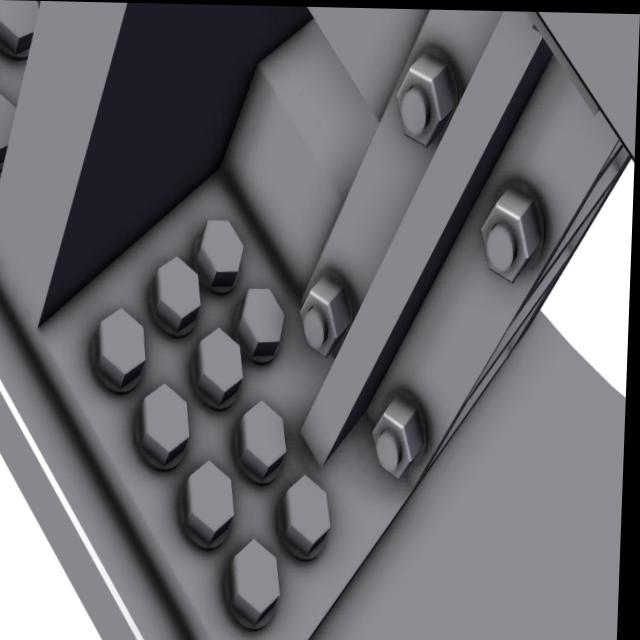Regular bolt: (481, 182, 544, 283), (397, 49, 456, 147), (231, 538, 289, 629), (186, 460, 242, 547), (95, 307, 149, 391), (302, 277, 356, 360), (142, 383, 194, 468), (197, 327, 249, 408), (375, 400, 429, 477), (286, 473, 338, 552), (242, 402, 292, 479), (155, 256, 205, 331), (198, 217, 248, 289), (241, 287, 288, 356)
